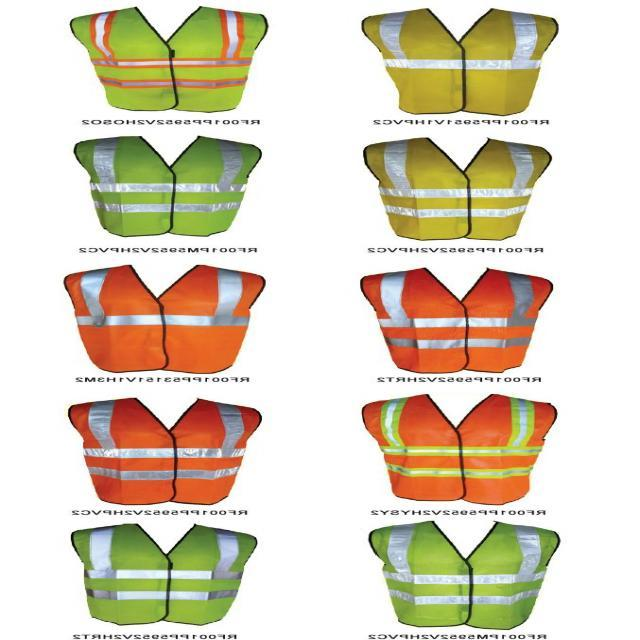reflective_jacket: (51, 260, 279, 378), (349, 391, 575, 509), (57, 2, 283, 117), (348, 263, 572, 379), (355, 518, 577, 634), (352, 4, 573, 119), (53, 394, 274, 507), (352, 133, 569, 247), (62, 131, 276, 245), (59, 520, 273, 632)
